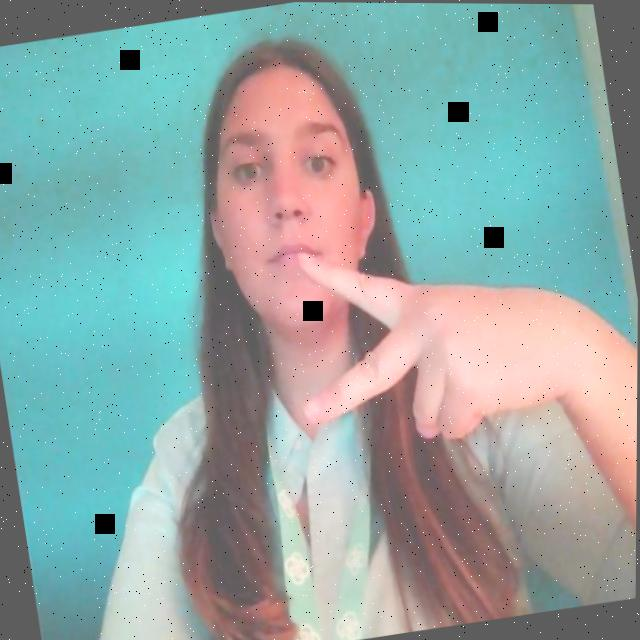Scissors: (287, 232, 489, 447)
